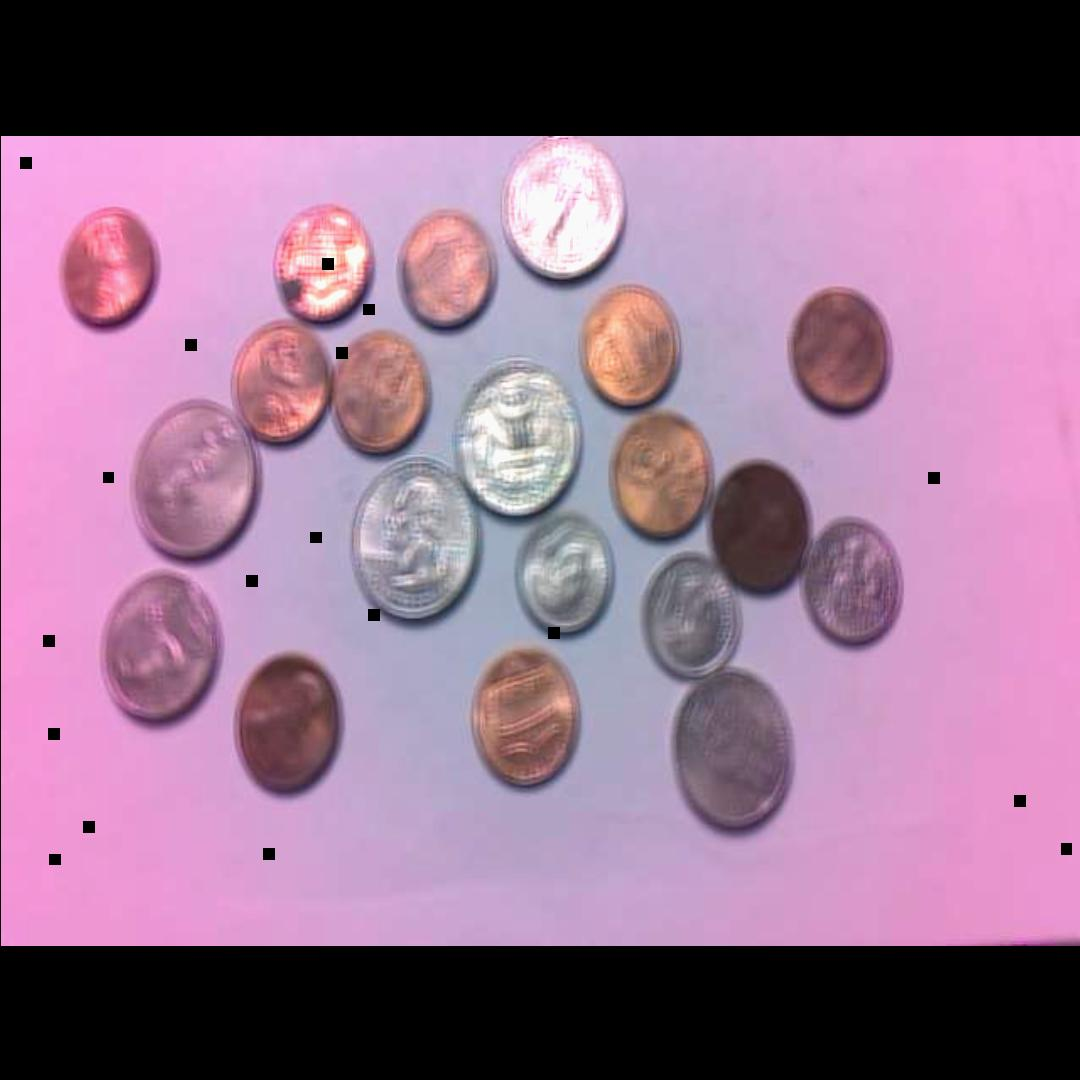Dime: (798, 515, 903, 651), (636, 550, 742, 683), (515, 512, 613, 639)
Nickel: (667, 665, 795, 837), (100, 562, 223, 730)
Penny: (232, 650, 345, 798), (465, 650, 578, 790), (783, 282, 894, 418), (707, 456, 812, 597), (223, 317, 330, 445), (579, 282, 682, 412), (56, 202, 159, 332), (609, 410, 709, 542), (268, 200, 371, 326), (397, 205, 496, 332), (332, 329, 433, 452)
Quarter: (346, 448, 476, 625), (125, 397, 257, 564), (454, 357, 576, 524), (501, 135, 619, 294)
